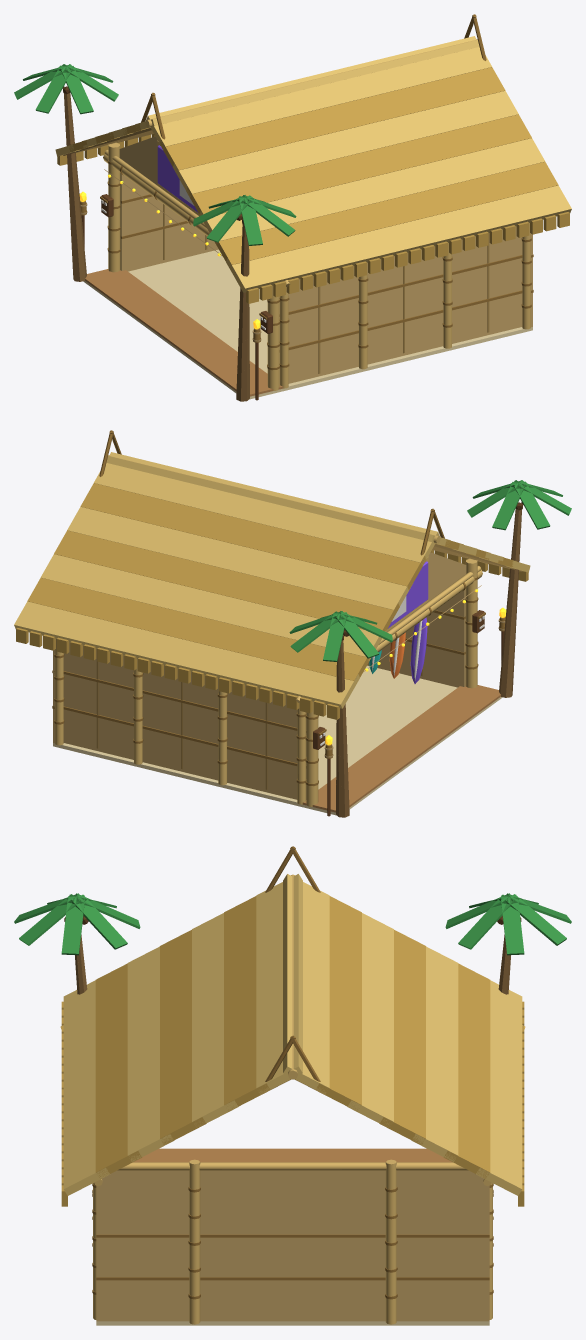
File: pit-garage-beach.glb
3 renders of one model, top to bottom at view 1: azimuth 30°, elevation 25°; view 2: azimuth 150°, elevation 25°; view 3: azimuth 270°, elevation 25°, orthographic. The views are drawn at different scales.
Visible parts, largest first — view 1: WallLeft, Roof, Roof_6, Roof_4, Roof_5, Floor, Roof_1, Roof_3, Roof_2, FloorDeck, WallRight, Roof_13 (+17 smaller); view 2: WallRight, Roof_7, Roof_13, Roof_12, Roof_11, Floor, Roof_8, Roof_10, Roof_9, FloorDeck, WallLeft, Roof_6 (+18 smaller); view 3: WallBack, Roof_6, Roof_13, Roof_8, Roof_9, Roof_1, Roof_2, Roof_7, Roof, Roof_12, Roof_5, Roof_3 (+16 smaller).
Boxes of the visible parts, <box> form: WallLeft: <box>279,226,522,383</box>; Roof: <box>226,185,571,292</box>; Roof_6: <box>146,36,491,149</box>; Roof_4: <box>173,90,518,197</box>; Roof_5: <box>160,67,505,173</box>; Floor: <box>83,249,532,399</box>; Roof_1: <box>215,162,558,264</box>; Roof_3: <box>186,114,531,214</box>; Roof_2: <box>199,138,545,244</box>; FloorDeck: <box>85,269,283,396</box>; WallRight: <box>120,173,218,271</box>; Roof_13: <box>135,40,479,129</box>; WallRight: <box>63,642,306,799</box>; Roof_7: <box>14,601,359,708</box>; Roof_13: <box>94,452,439,565</box>; Roof_12: <box>80,483,426,589</box>; Roof_11: <box>67,506,411,609</box>; Floor: <box>53,665,502,815</box>; Roof_8: <box>27,578,370,680</box>; Roof_10: <box>54,530,399,631</box>; Roof_9: <box>40,554,386,661</box>; FloorDeck: <box>302,685,500,812</box>; WallLeft: <box>367,589,465,687</box>; Roof_6: <box>106,456,450,545</box>; WallBack: <box>96,1170,489,1321</box>; Roof_6: <box>256,874,302,1094</box>; Roof_13: <box>283,874,329,1094</box>; Roof_8: <box>443,963,490,1178</box>; Roof_9: <box>411,946,458,1161</box>; Roof_1: <box>95,963,142,1178</box>; Roof_2: <box>127,946,174,1161</box>; Roof_7: <box>476,980,522,1195</box>; Roof: <box>63,980,109,1195</box>; Roof_12: <box>315,896,361,1111</box>; Roof_5: <box>224,896,270,1111</box>; Roof_3: <box>160,930,206,1145</box>.
Bounding box in the file's own units: 13.08 × 8.5 × 14.19.
